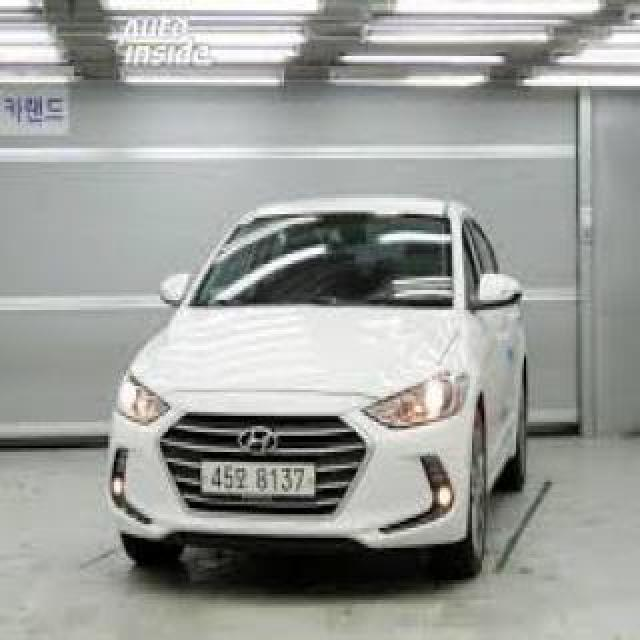car: (104, 184, 540, 598)
illegal_plate: (202, 462, 320, 504), (1, 86, 70, 135)
